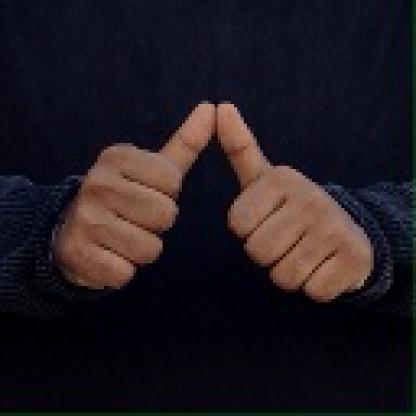A: (62, 93, 372, 301)
